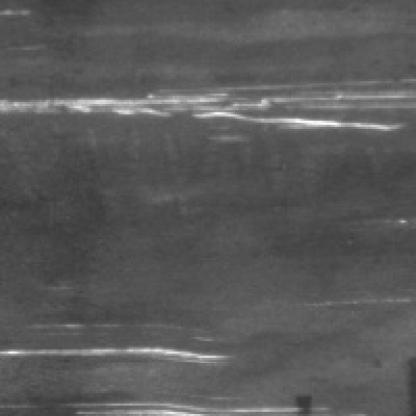scratches: (0, 71, 412, 141), (0, 341, 231, 372)
